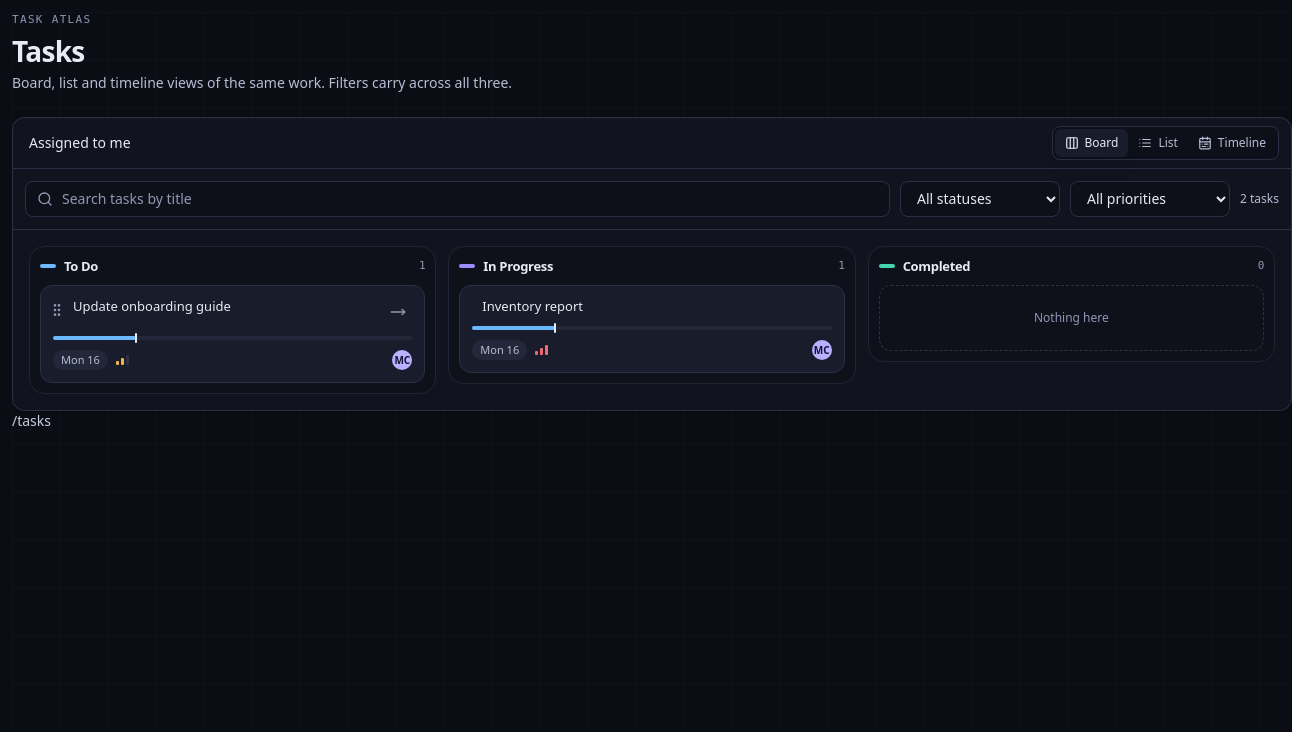
Test case: Task Atlas › moves a card with the "Move to" menu and keeps it there when the server agrees
Click the button named "Move “Update onboarding guide”". click: (398, 312)
box: [384,298,412,326]
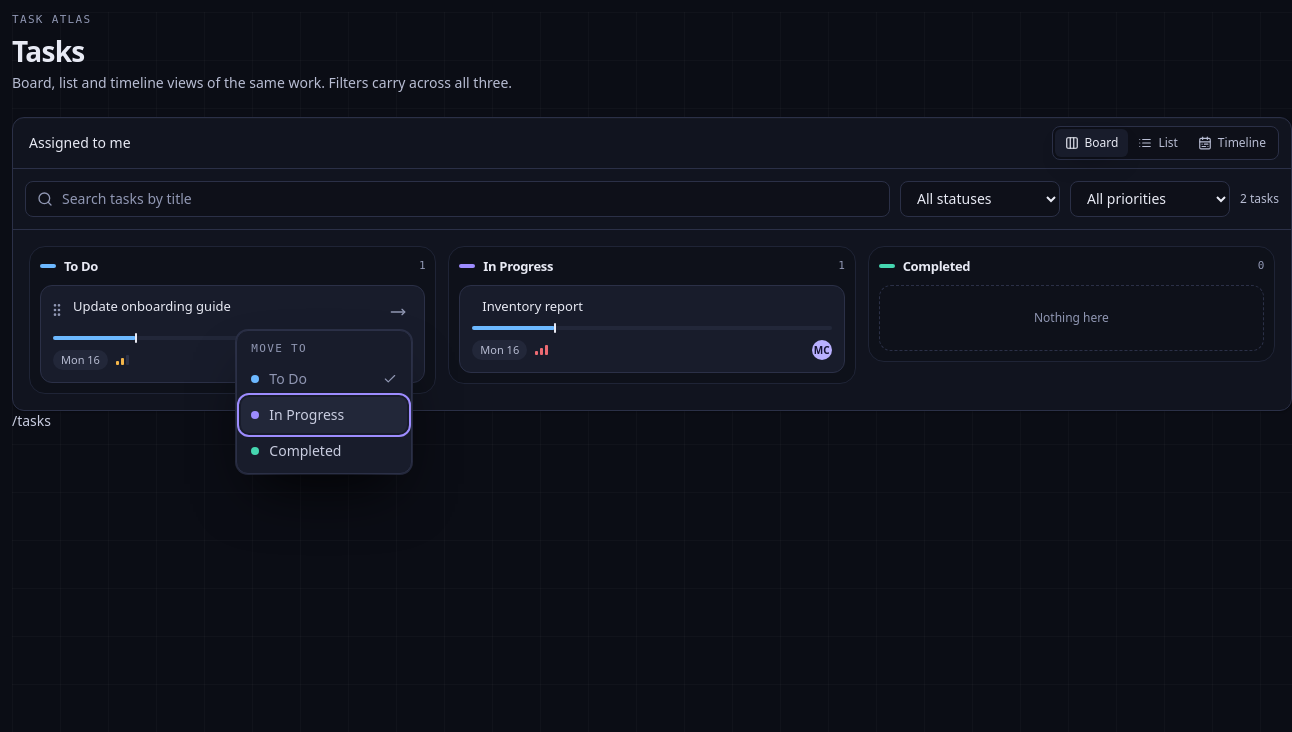
Click the menu item "In Progress". click: (324, 415)
box: [241,397,407,433]
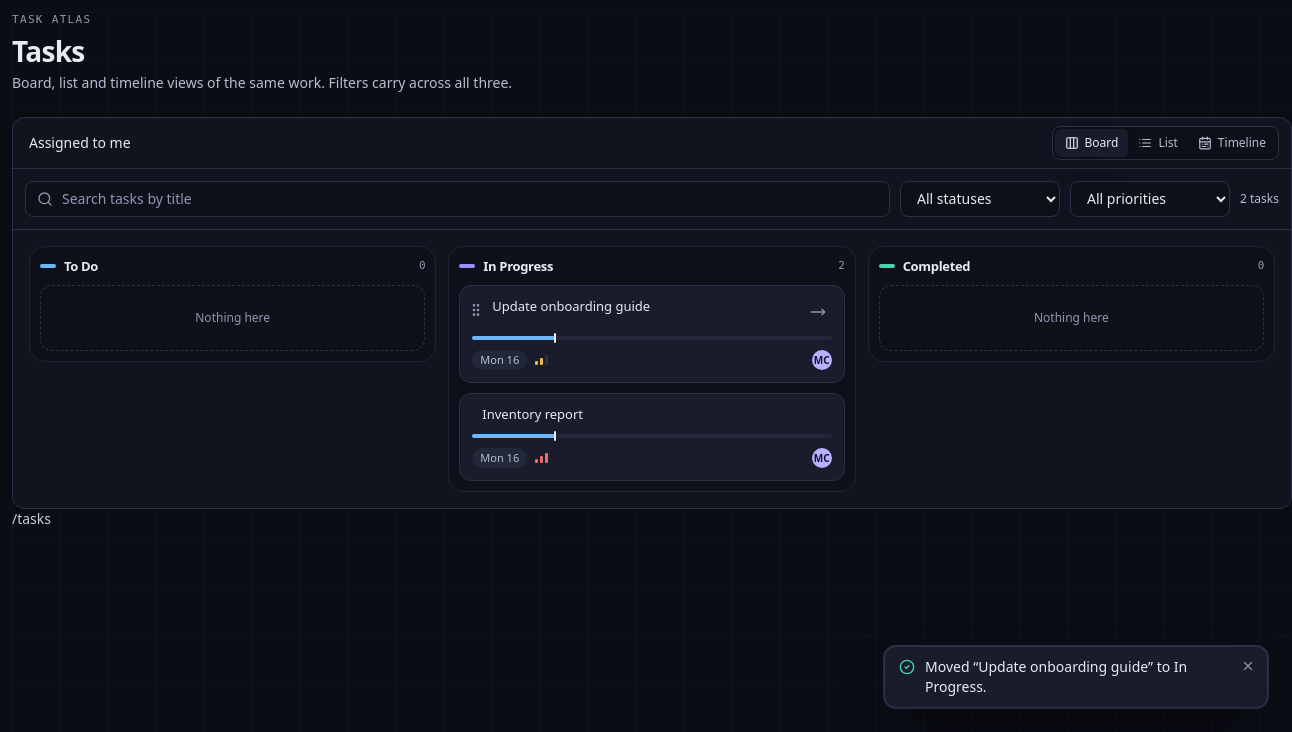
Expected: the text "Moved “Update onboarding guide” to In Progress." is shown, [925,657,1229,697]
